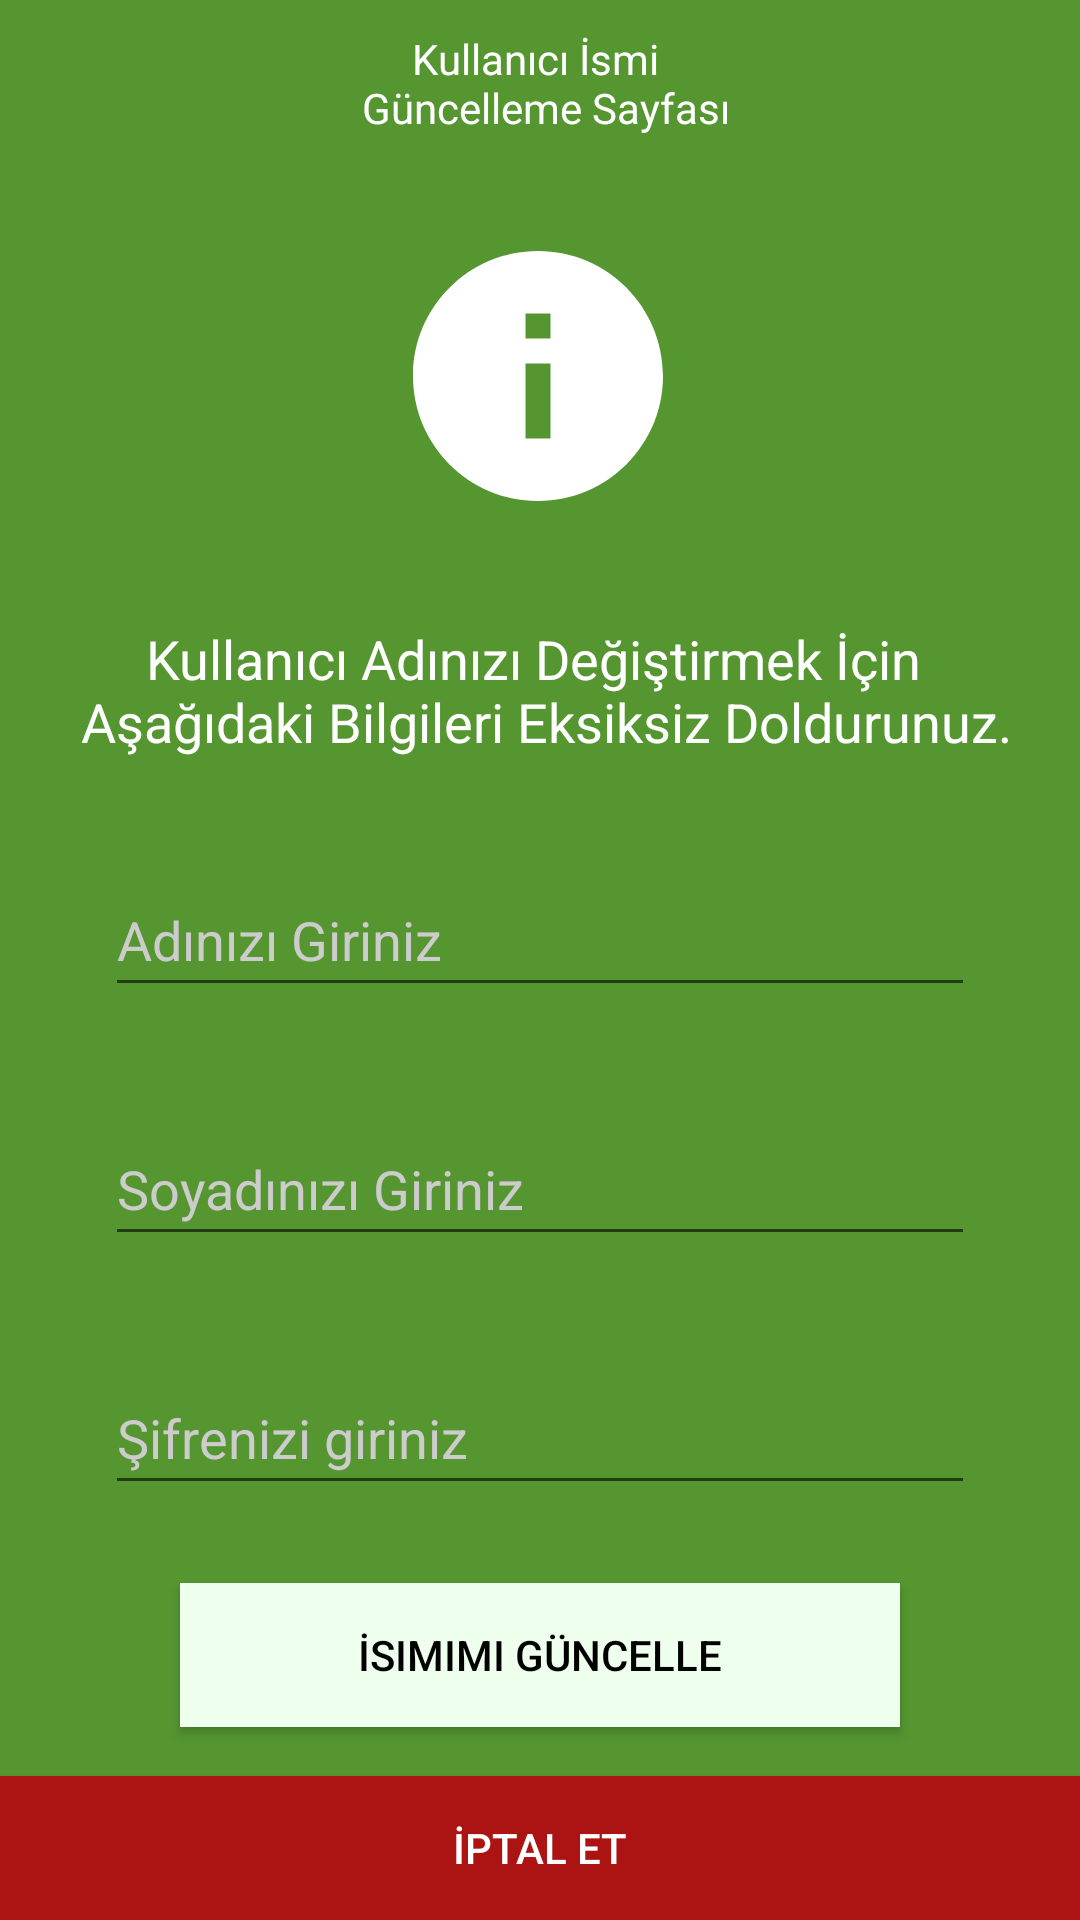

Icons on this 1080w x 1920h Android screen, each with the point to tap as point (x, y):
info: point (538, 376)
